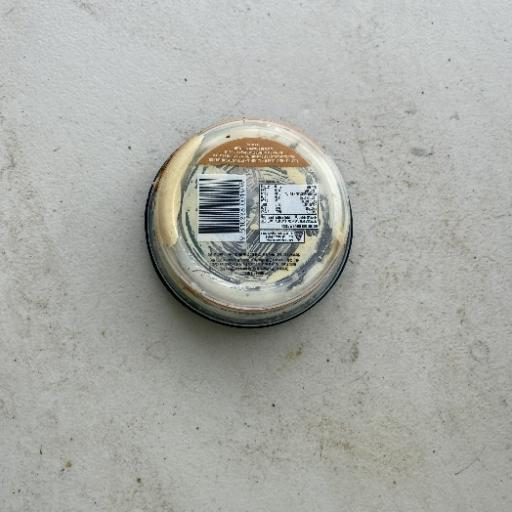Plastic: (142, 116, 354, 330)
